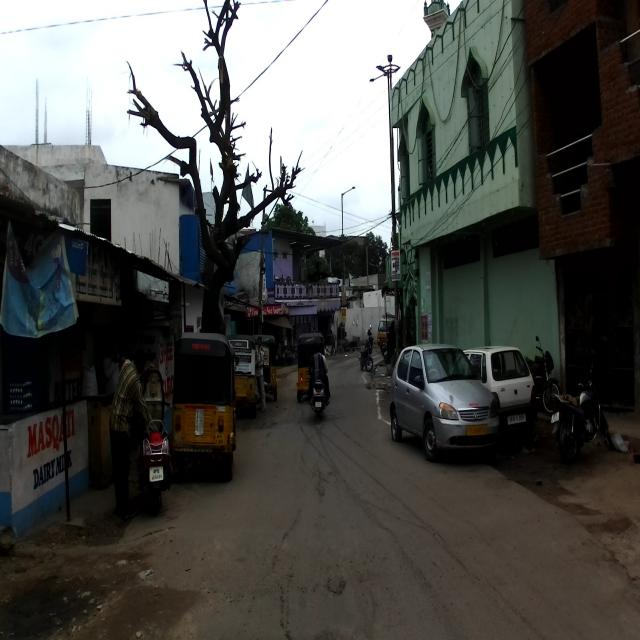Car_Maruti-Suzuki: (461, 344, 537, 449)
Car_TATA: (389, 341, 502, 461)
autorickshaw: (169, 330, 238, 482)
motorcycle_Hero: (547, 348, 613, 462), (522, 336, 562, 415)
scooter: (134, 365, 172, 508)
